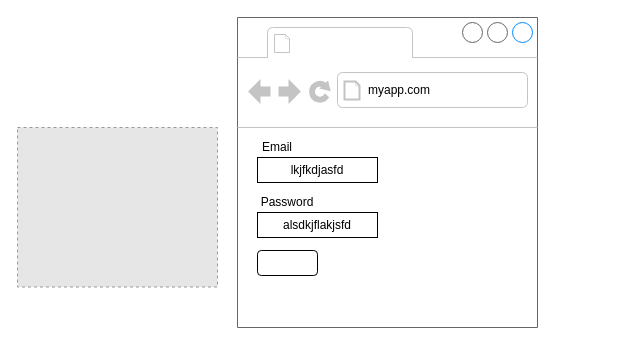
The diagram is 635 pixels wide and 345 high, and some of its shapes have lost their labels. Grey dashed boxes stand in for pictures. Each missing label, with the centre of its shape:
Page 1: (352,42)
Submit: (287,263)
